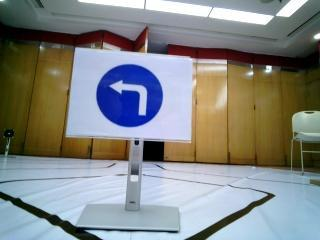left: (75, 56, 185, 138)
